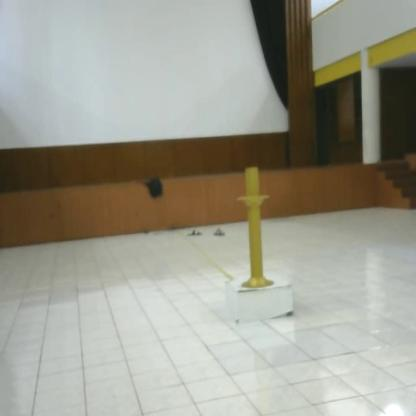pole: (235, 161, 278, 297)
